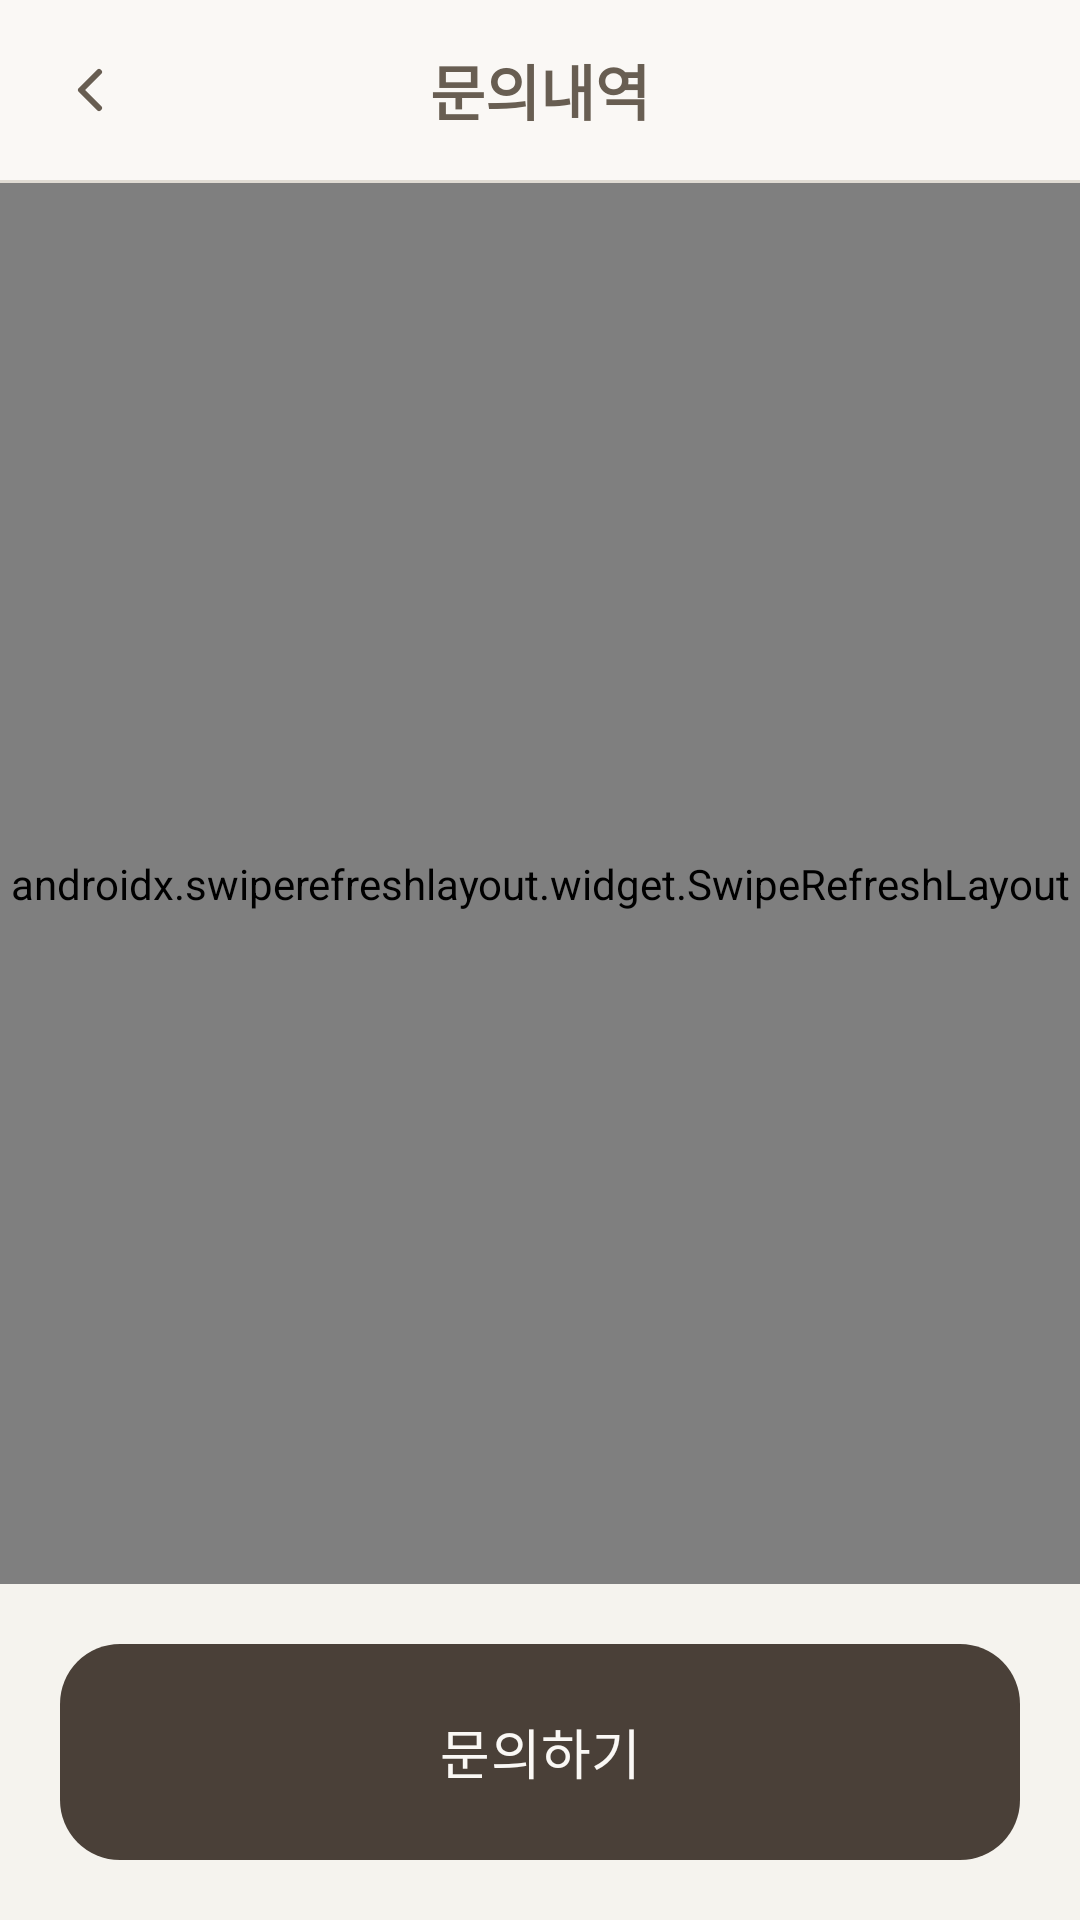

Screen size 1080w x 1920h. Icon name, then its box in pixels as BBox(x1, y1, x2, y2):
뒤로: BBox(78, 69, 102, 111)
